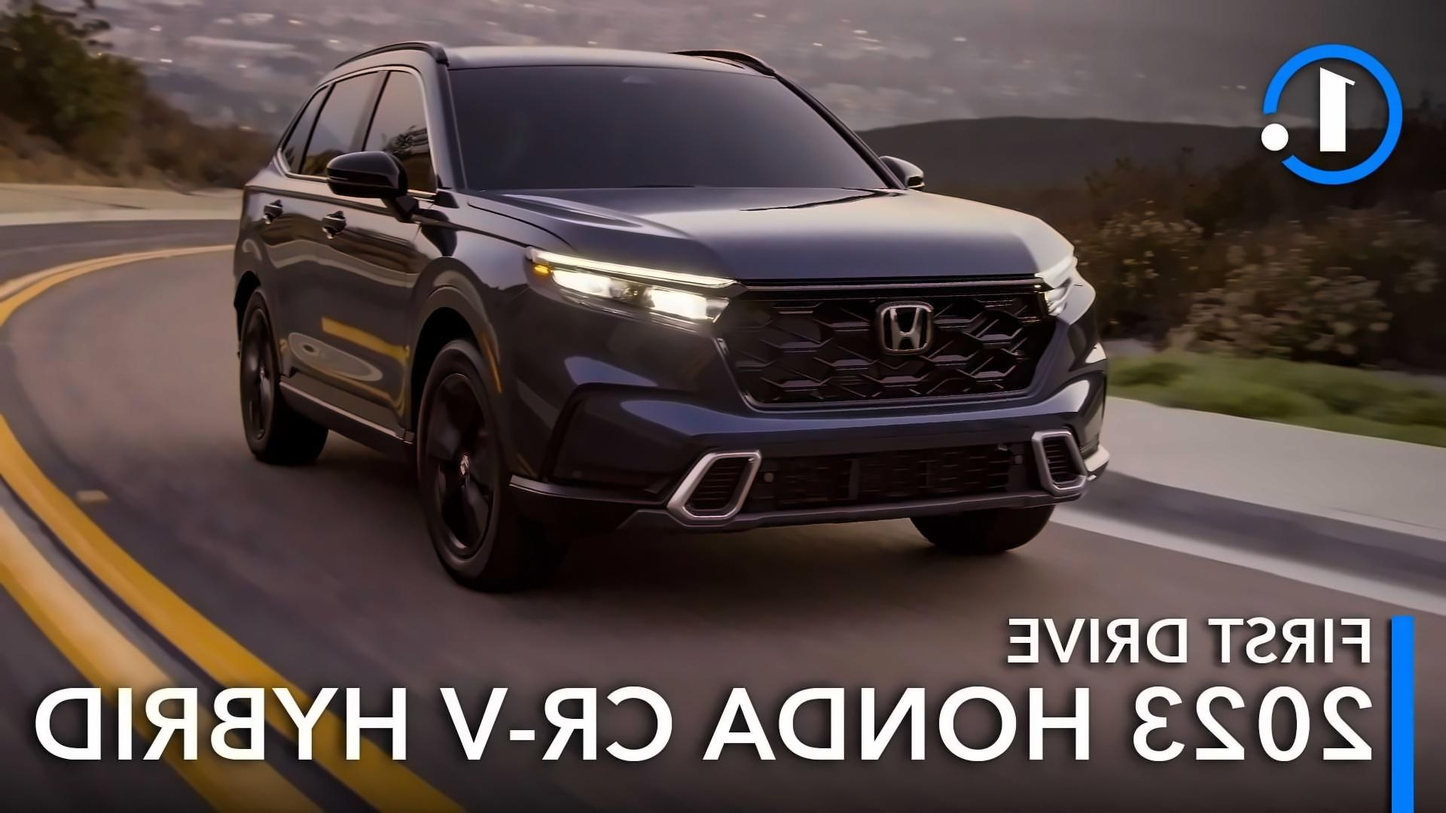Car hood: (460, 181, 1077, 285)
Driver-s door - -F-R-: (327, 42, 466, 444)
Fender - -F-R-: (396, 181, 537, 458)
Fender - -R-R-: (244, 162, 289, 291)
Front bumper: (478, 289, 1114, 534)
Headlight - -L-: (1027, 237, 1095, 326)
Headlight - -R-: (509, 231, 750, 336)
Passenger-s door - -R-R-: (262, 45, 377, 405)
Side bumper - -R-: (262, 366, 414, 471)
Side mirror - -L-: (859, 142, 933, 199)
Side mirror - -R-: (315, 139, 420, 224)
